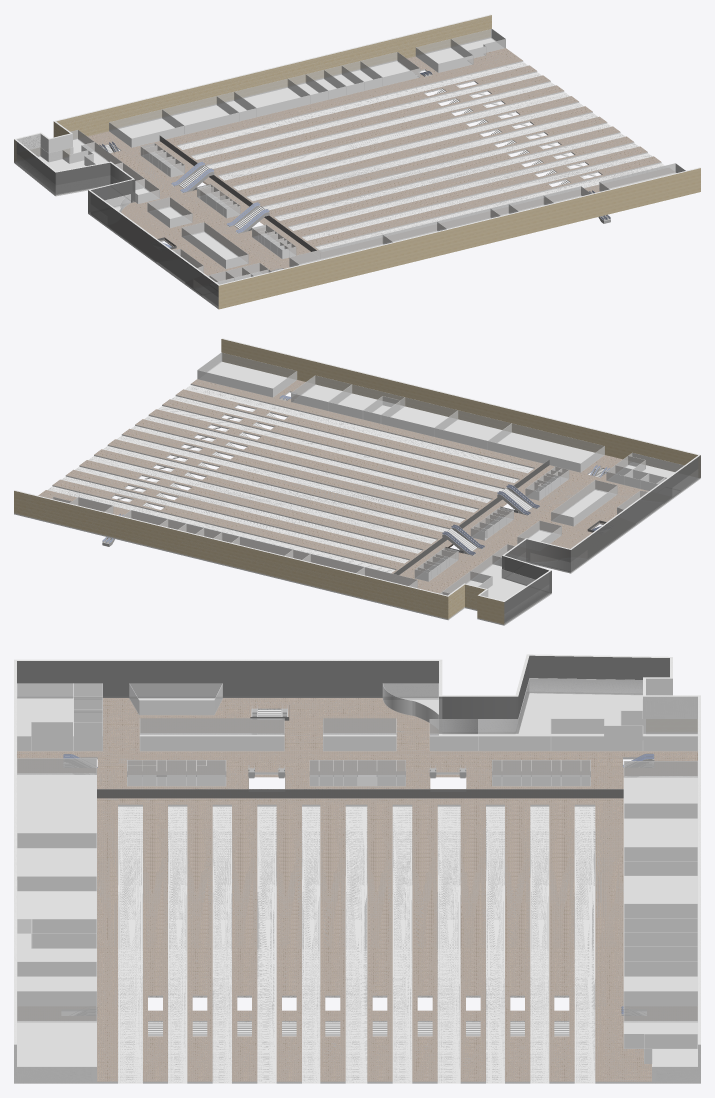
Rendered from stazionetermini.dae.
3 views of the same model, one above another, from view 1: azimuth 30°, elevation 25°; view 2: azimuth 150°, elevation 25°; view 3: azimuth 270°, elevation 25° (orthographic). The views are drawn at different scales.
Visible parts, largest first — view 1: group_0 (×51); view 2: group_0 (×49); view 3: group_0 (×72).
Boxes of the visible parts, x1=… form: group_0 (×51): x1=14, y1=14, x2=700, y2=309; group_0 (×49): x1=14, y1=338, x2=700, y2=625; group_0 (×72): x1=14, y1=654, x2=700, y2=1083.
Size of the model in its own units: 8874 by 6602 by 678.
